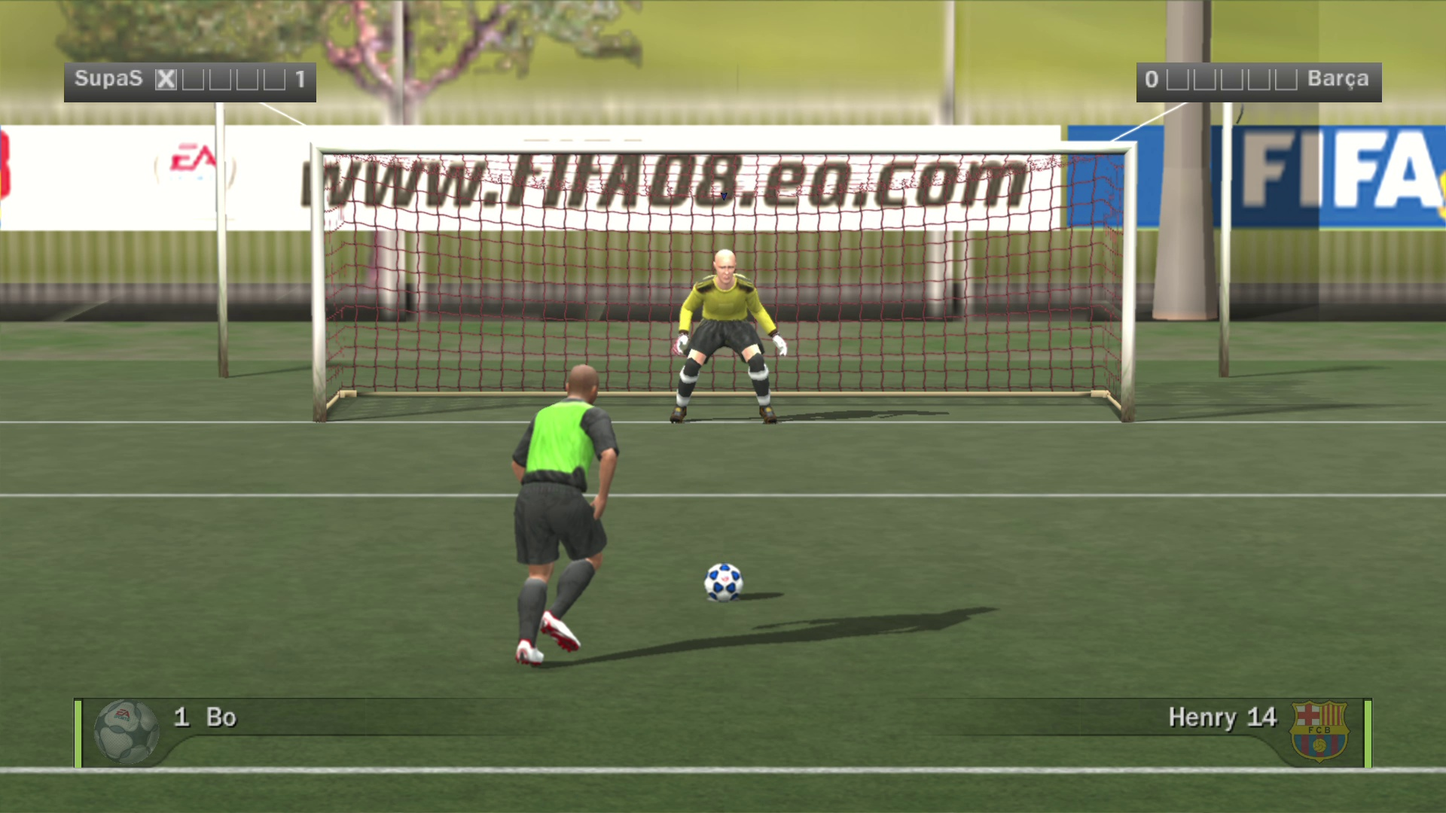ball: (683, 539, 724, 581)
goal_post: (0, 21, 722, 288)
keeper: (606, 156, 729, 336)
kicker: (460, 203, 565, 522)
